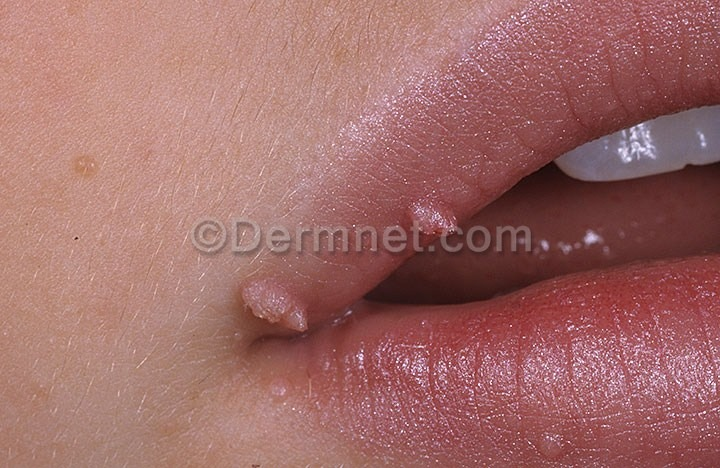Warts: (234, 266, 331, 349)
